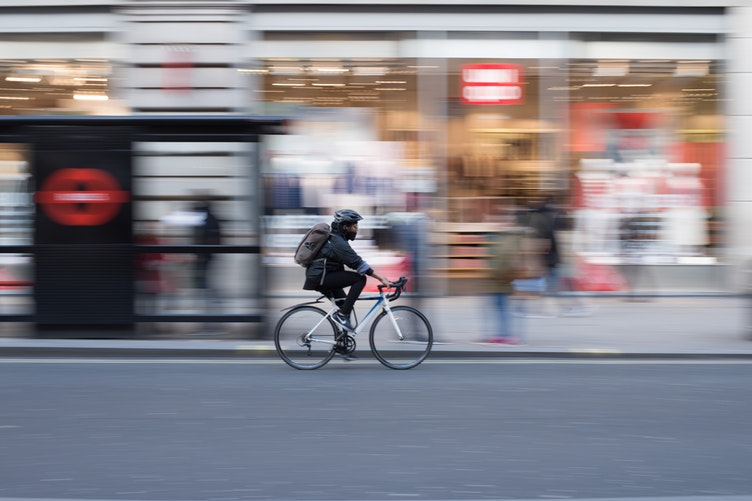helmet: (330, 204, 358, 233)
